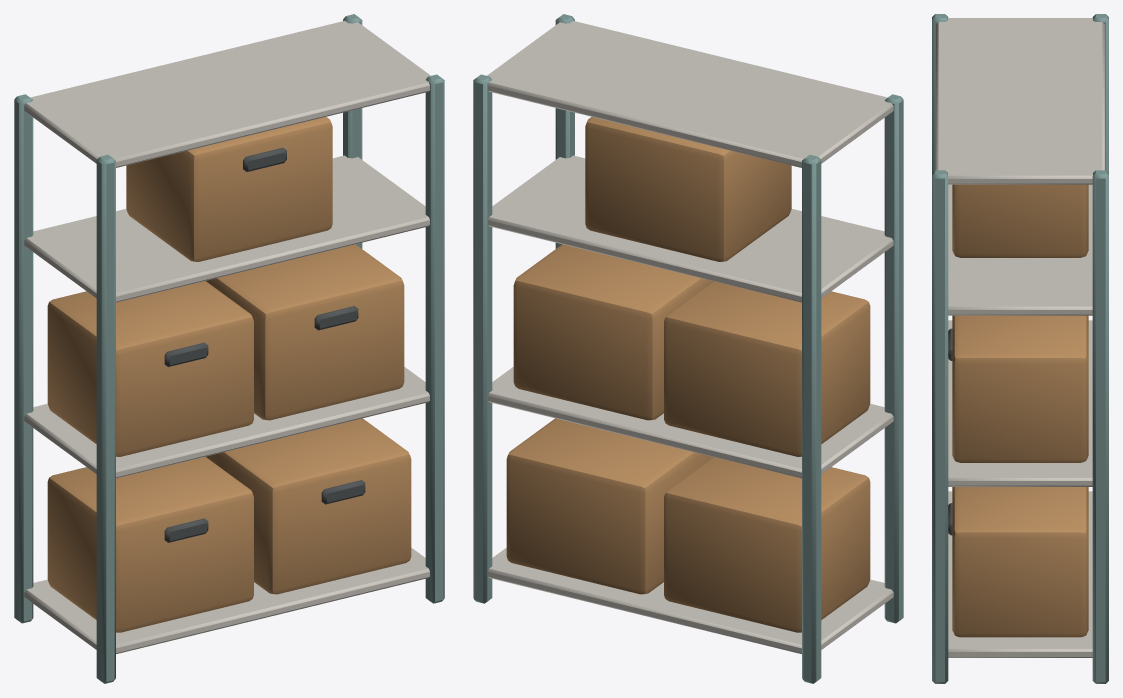
The model's file is storage_shelf.glb.
3 views of the same model, side by side, from view 1: azimuth 30°, elevation 25°; view 2: azimuth 150°, elevation 25°; view 3: azimuth 270°, elevation 25° (orthographic). The views are drawn at different scales.
Parts seen in each view (by area): view 1: crate, steel, paint, rubber; view 2: crate, steel, paint; view 3: crate, steel, paint, rubber.
Boxes of the visible parts, bbox=[...] form: crate: bbox=[47, 117, 411, 632]; steel: bbox=[24, 21, 430, 654]; paint: bbox=[14, 14, 444, 683]; rubber: bbox=[164, 147, 365, 542]; crate: bbox=[506, 117, 870, 632]; steel: bbox=[487, 21, 893, 654]; paint: bbox=[473, 14, 903, 683]; crate: bbox=[952, 184, 1088, 637]; steel: bbox=[936, 18, 1104, 657]; paint: bbox=[932, 14, 1108, 683]; rubber: bbox=[948, 328, 952, 535].
Size of the model in its own units: 0.96 by 1.4 by 0.44.
